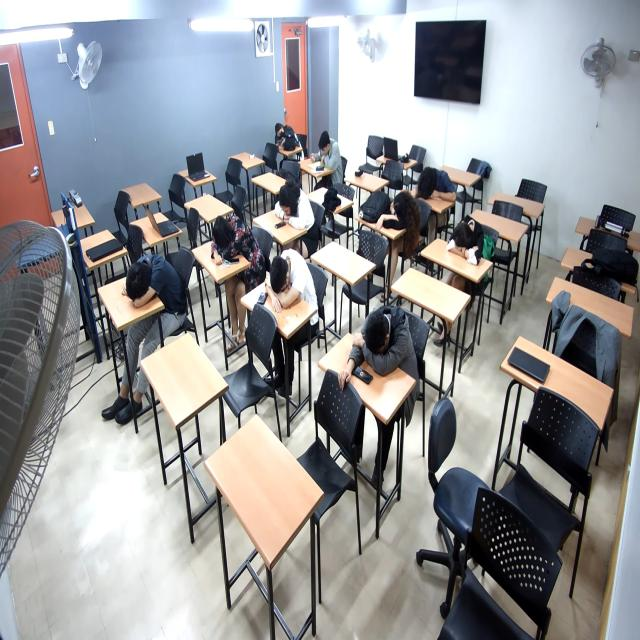sleep: (358, 303, 420, 378), (263, 246, 320, 316), (121, 252, 183, 314), (207, 211, 260, 270), (445, 211, 489, 271), (273, 179, 316, 231), (379, 194, 422, 235), (415, 165, 458, 205), (274, 122, 301, 156)
